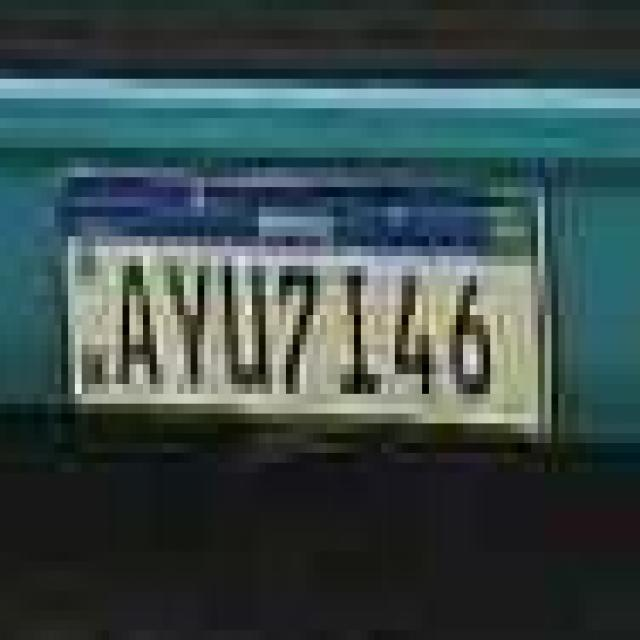4: (388, 263, 438, 399)
6: (446, 258, 498, 405)
7: (274, 254, 318, 399)
A: (114, 251, 161, 393)
I: (332, 258, 377, 398)
U: (220, 256, 272, 395)
Y: (165, 249, 213, 394)
